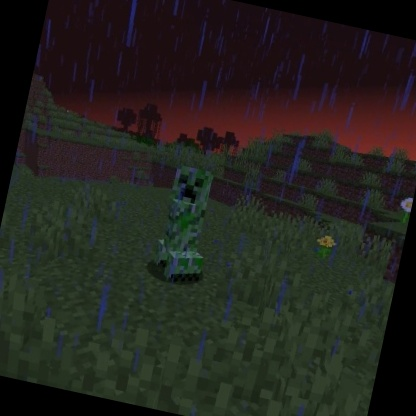creeper: (145, 160, 227, 293)
